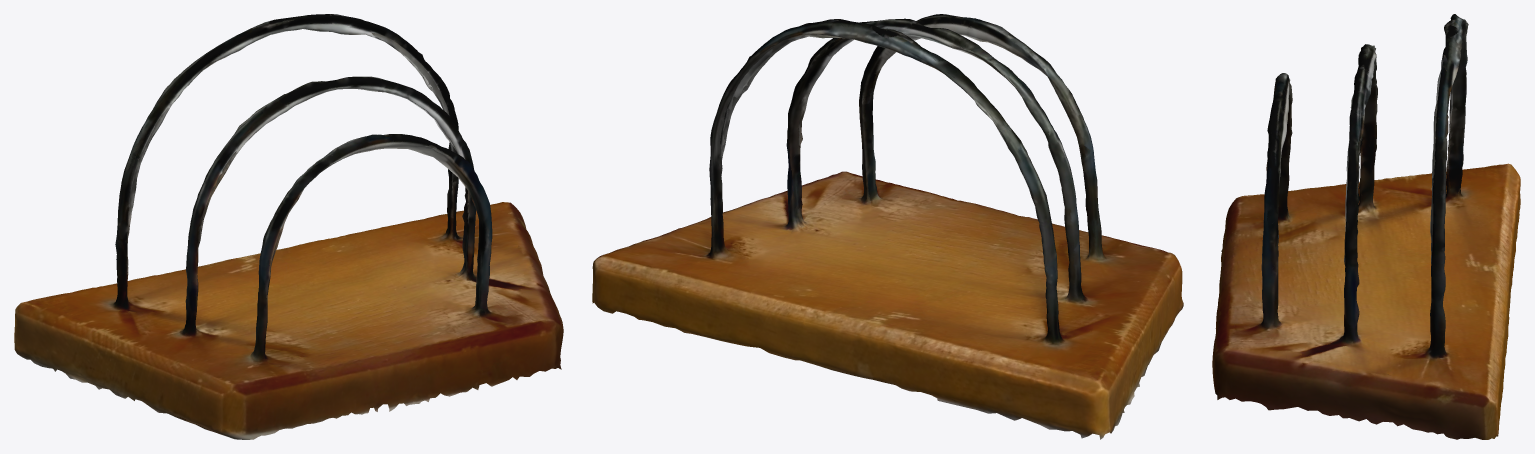
The model's file is letterorganizer_video_iphone11_comp.glb.
The picture shows the model from 3 angles, left to right: view 1: azimuth 30°, elevation 25°; view 2: azimuth 150°, elevation 25°; view 3: azimuth 270°, elevation 25°; orthographic projection. The views are drawn at different scales.
Parts seen in each view (by area): view 1: model; view 2: model; view 3: model.
Part boxes in pixels (x1,y1,x2,y2): model: [14, 14, 563, 439]; model: [592, 14, 1183, 439]; model: [1212, 14, 1520, 439].
Size of the model in its own units: 0.5429 by 0.3182 by 0.3021.
1 material, 1 textured.
